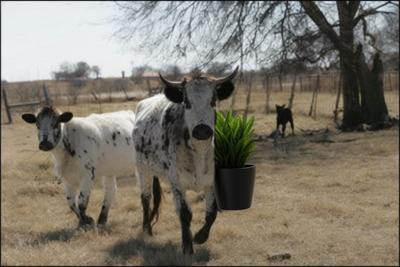cow: (138, 64, 250, 256), (22, 106, 166, 237)
pottedplant: (214, 110, 254, 209)
